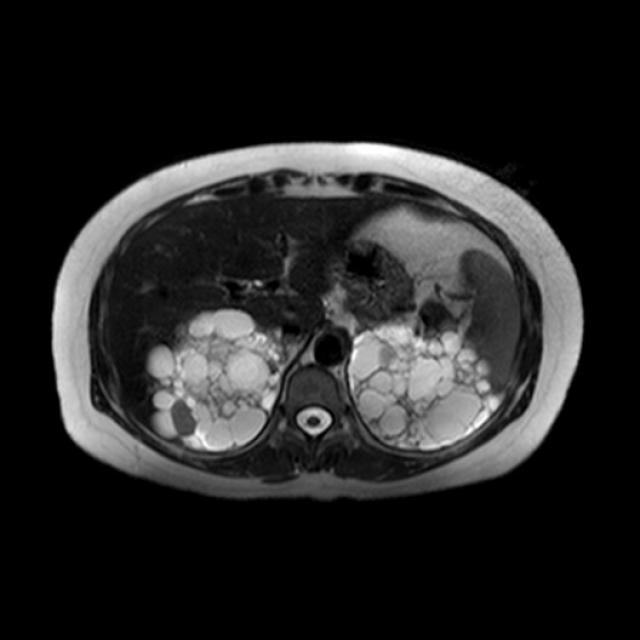sag: (149, 308, 290, 449)
sol: (351, 313, 501, 453)
